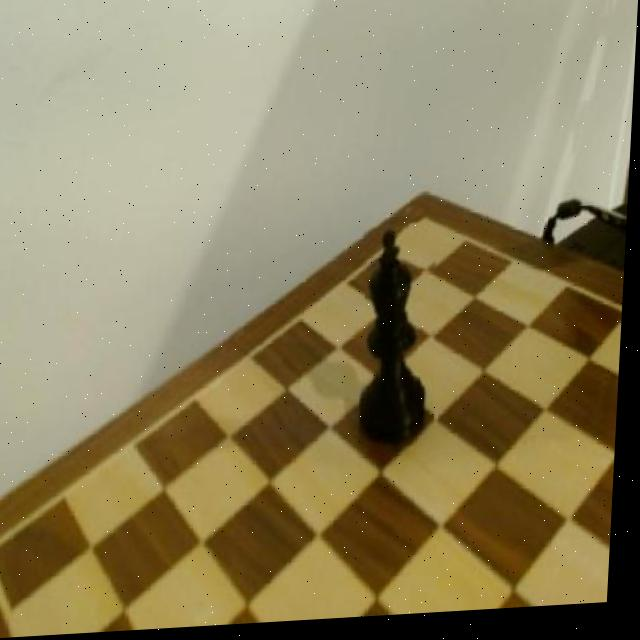black-bishop: (362, 227, 446, 456)
